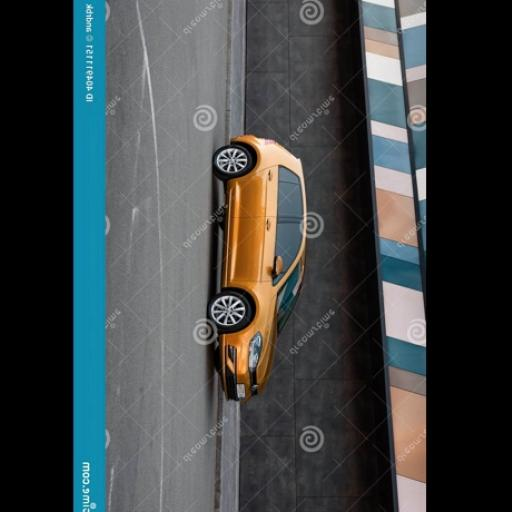hatchback: (207, 136, 307, 403)
